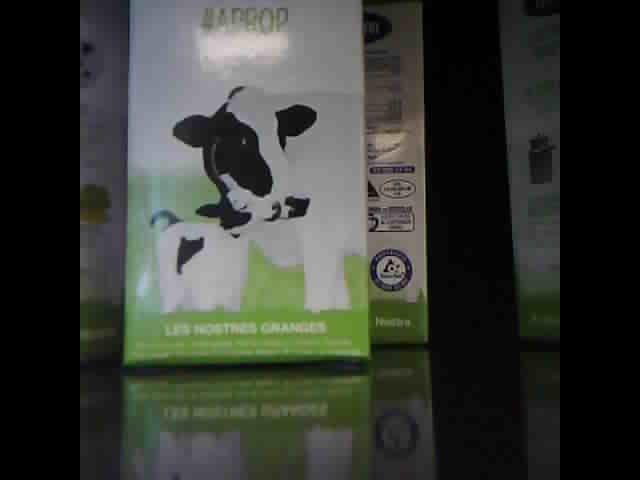leche: (123, 6, 368, 371), (358, 3, 431, 347), (497, 3, 558, 342), (80, 3, 130, 365)
